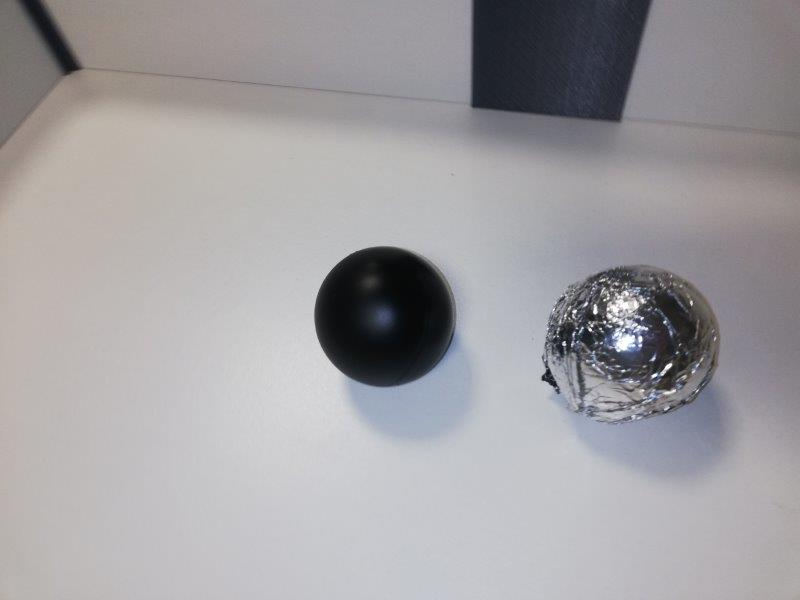bianca: (545, 262, 721, 423)
nera: (316, 245, 458, 390)
